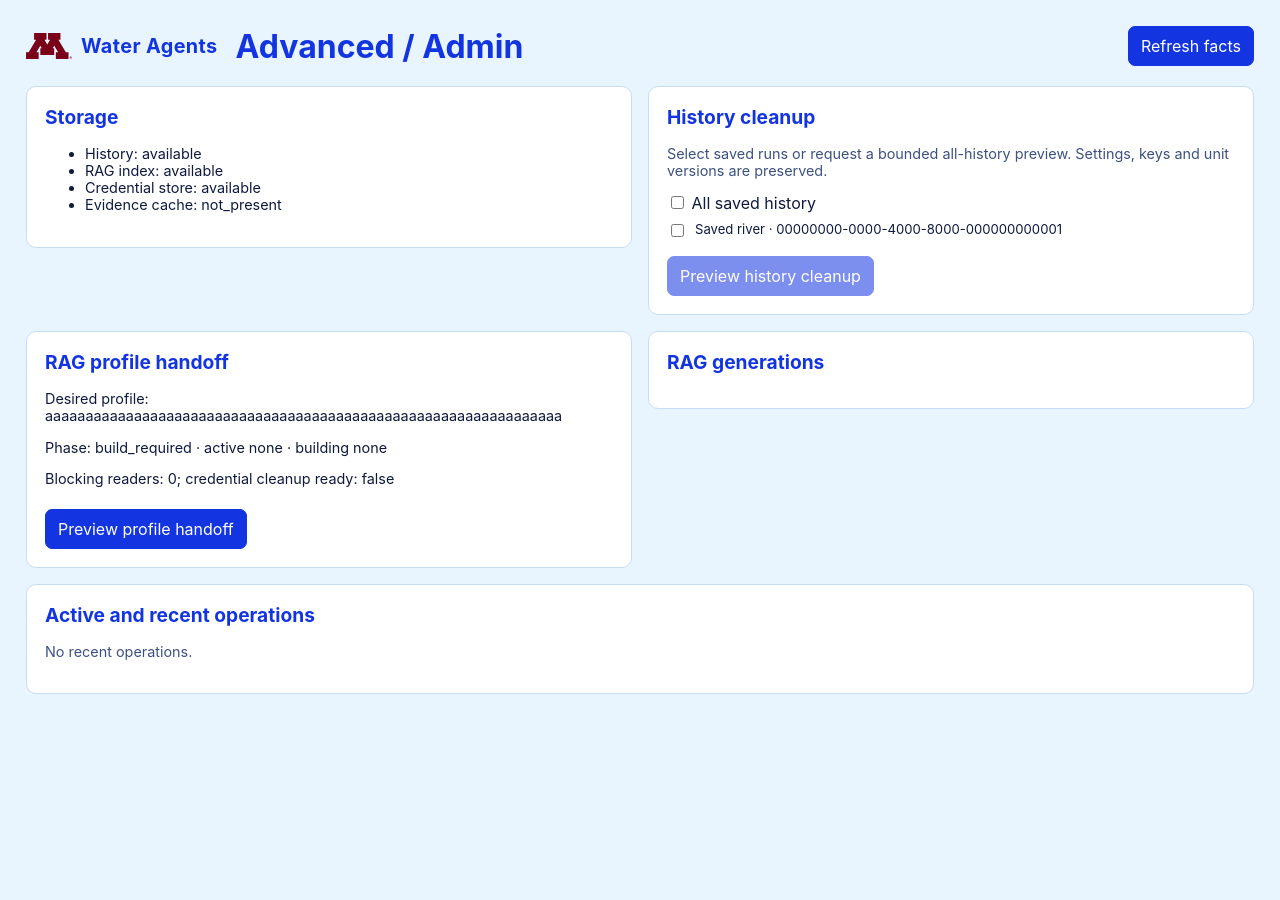
Test case: invalidates admin_preview_stale confirmation instead of repeating the mutation
Expected: the text "Saved river · 00000000-0000-4000-8000-000000000001" is shown, [671,221,1062,237]
Click the checkbox labelled "Saved river · 00000000-0000-4000-8000-000000000001": (678, 231) [671,224,684,237]
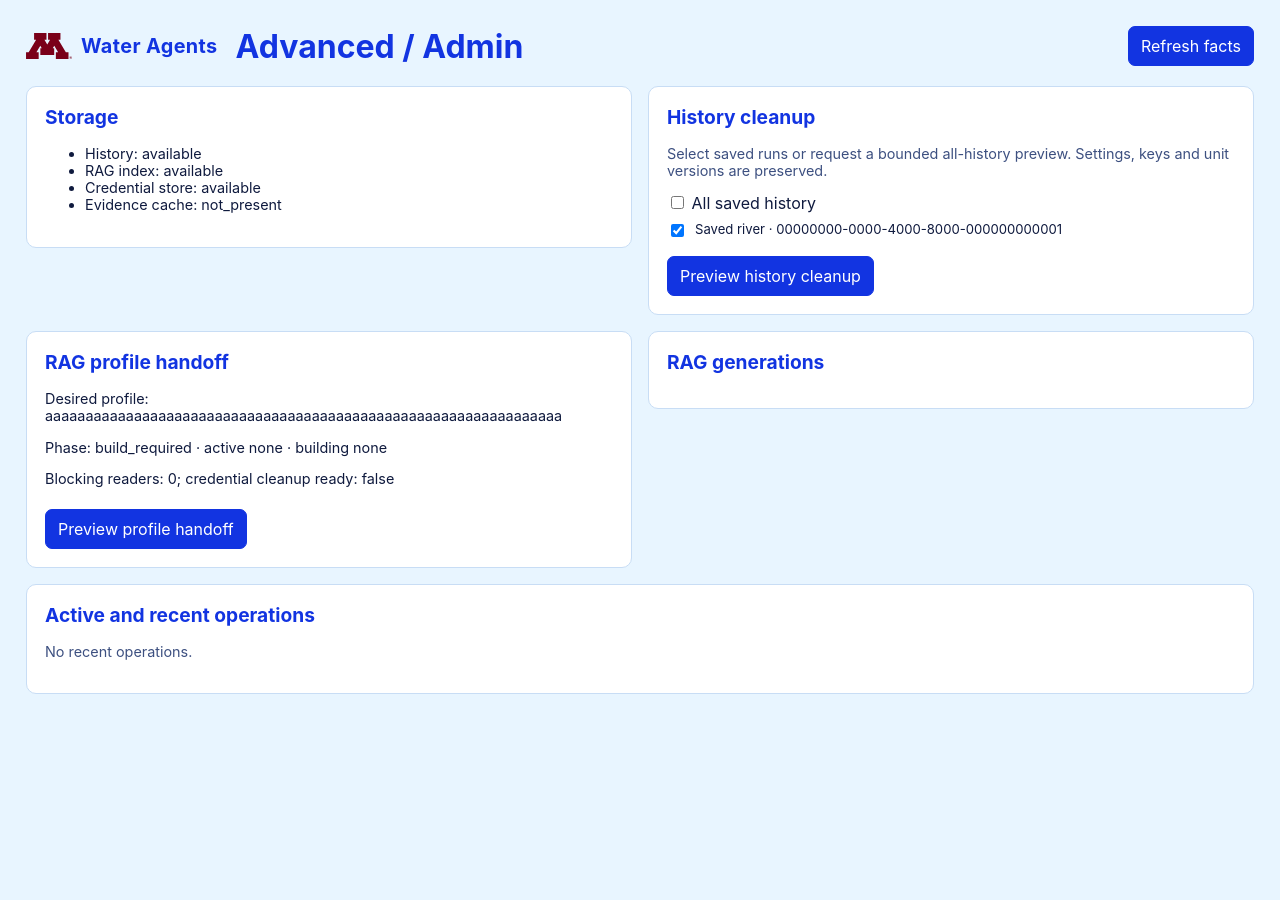
Click the button "Preview history cleanup": (770, 276) [667,256,874,296]
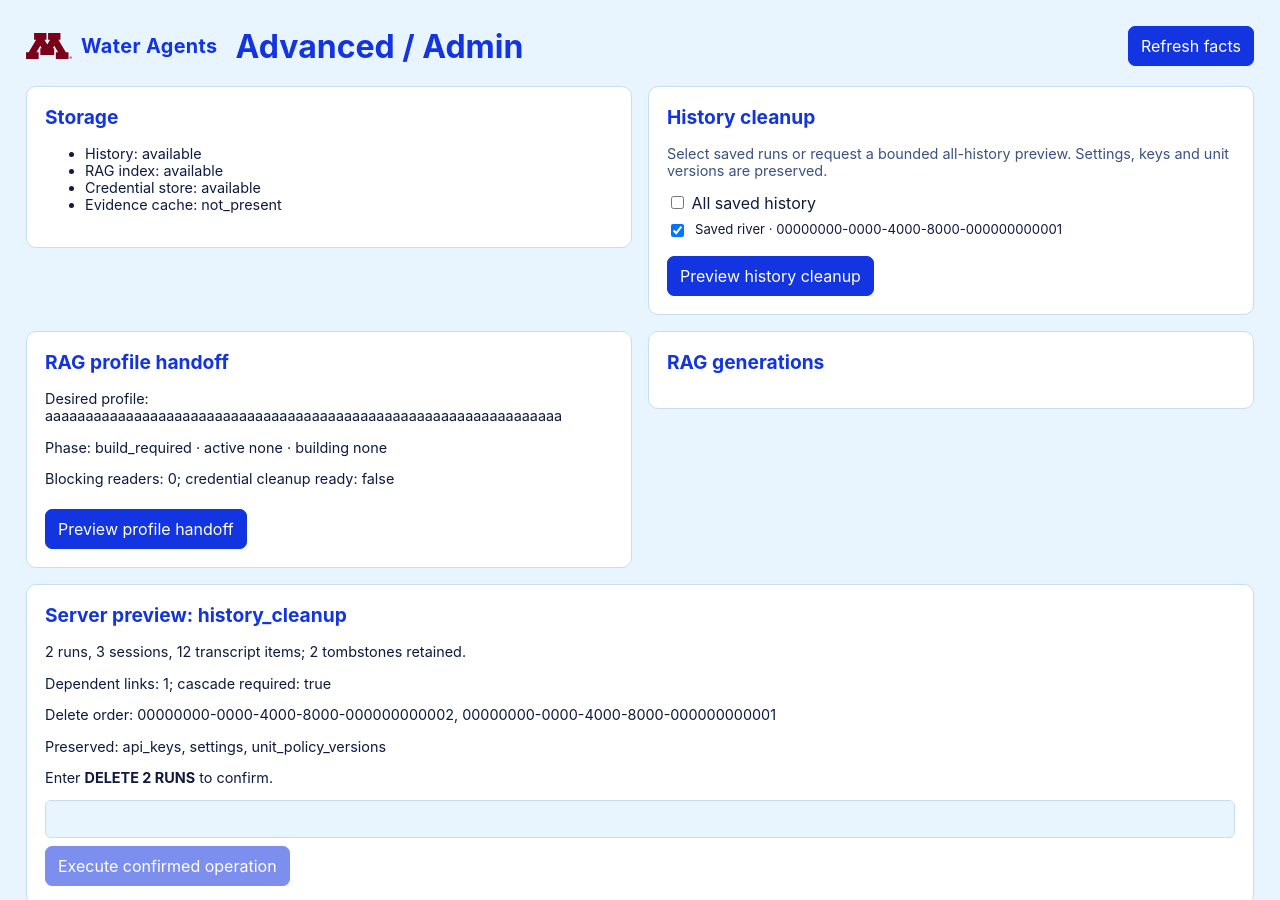
Now the field named "Admin confirmation phrase" is shown
In the field named "Admin confirmation phrase": (640, 819) [45,800,1235,838], type "DELETE 2 RUNS"
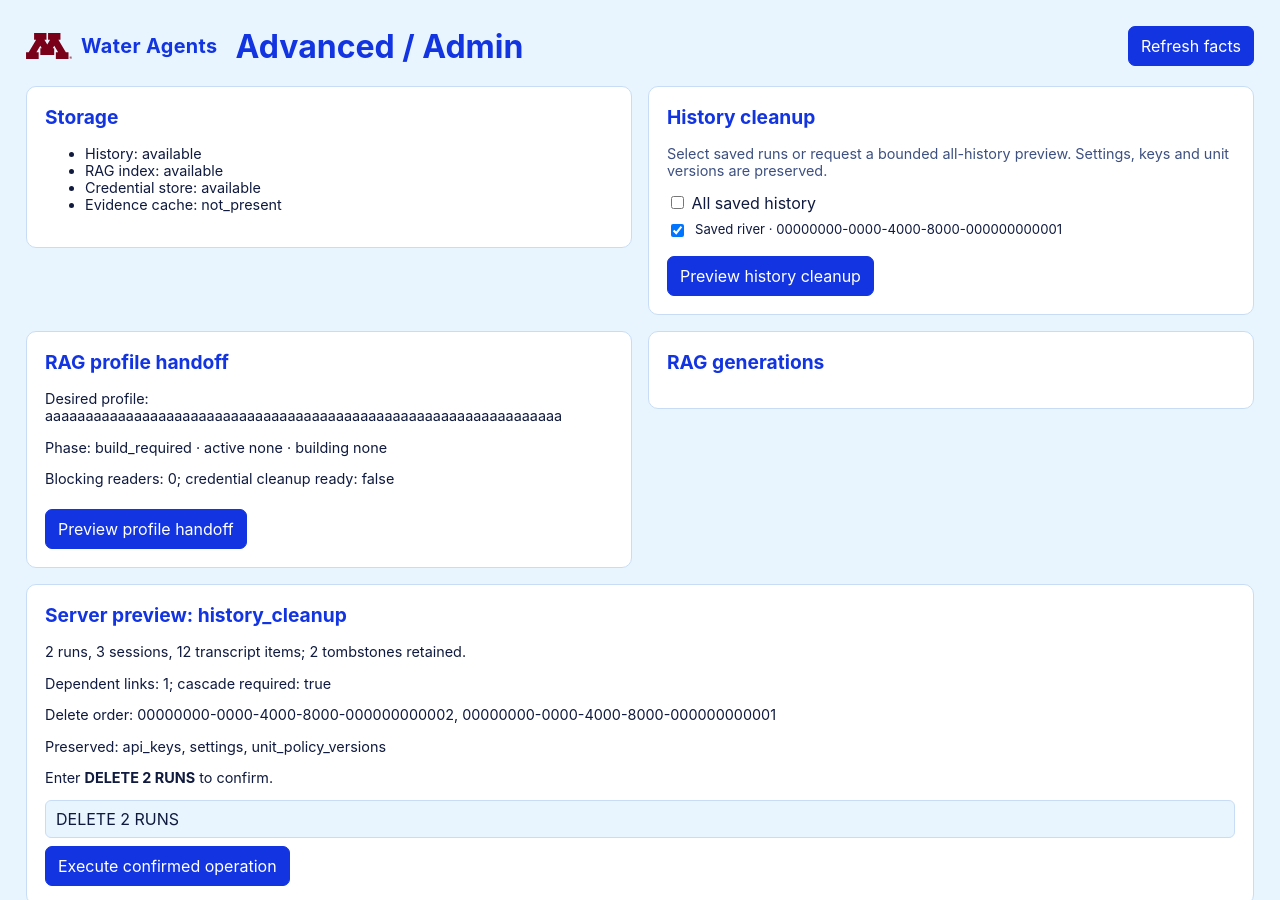
Click the button "Execute confirmed operation": (167, 866) [45,846,290,886]
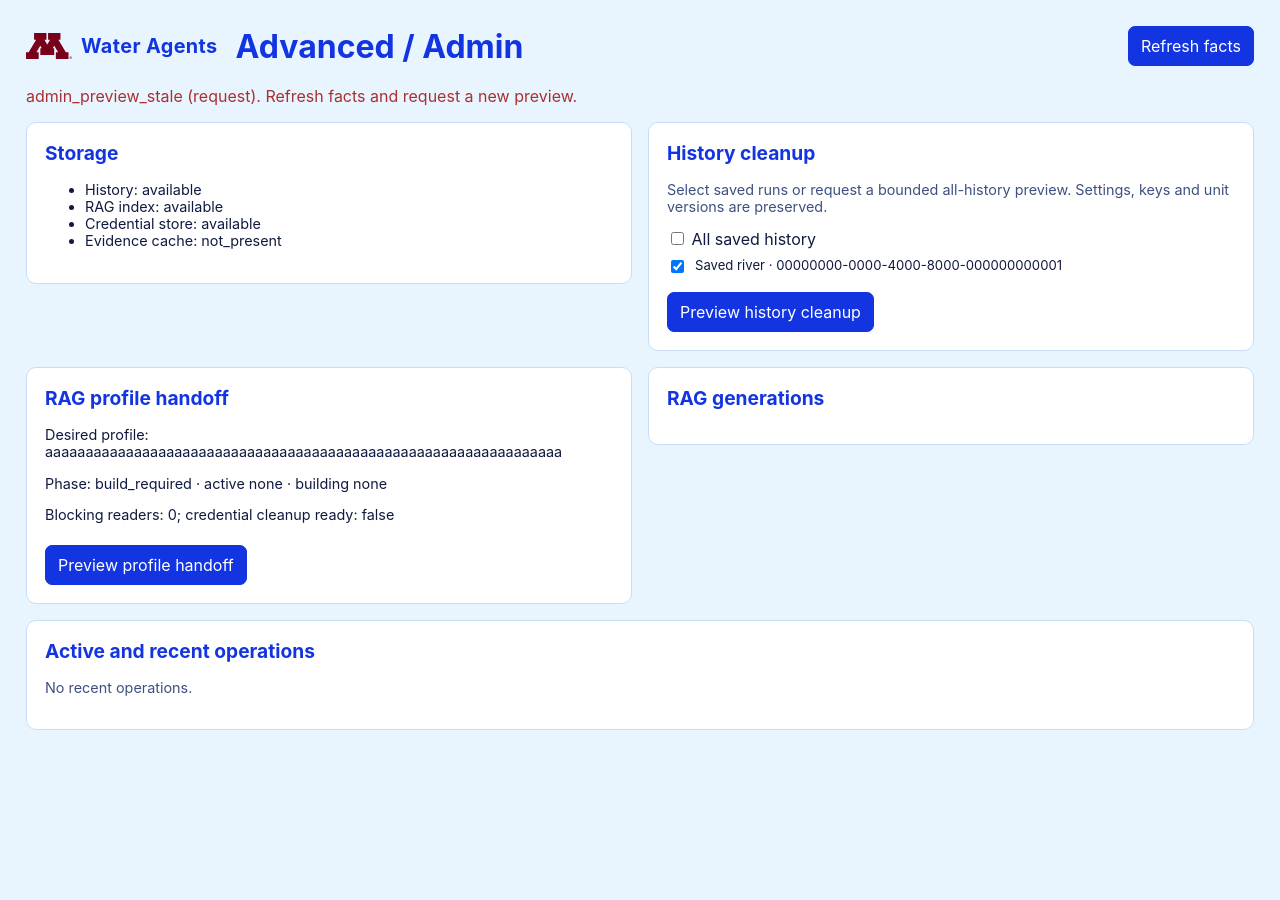
Now the message shows "admin_preview_stale", box [26,86,577,106]
